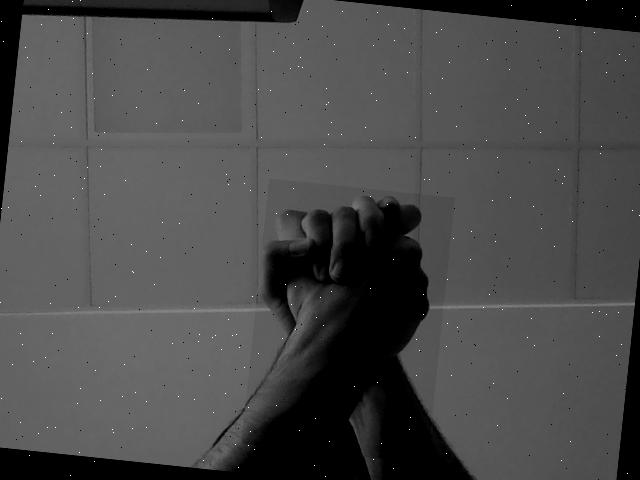friend: (245, 188, 442, 453)
